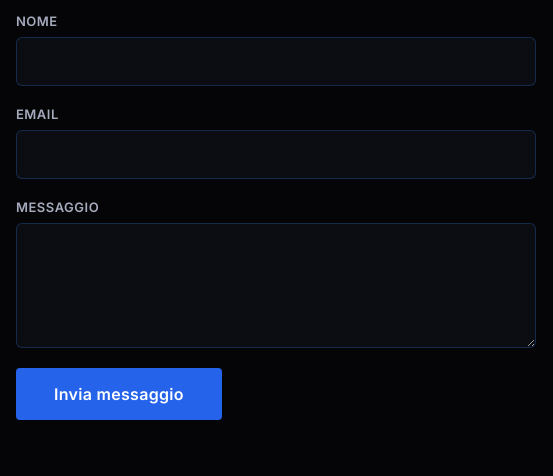
ContactForm › mostra il messaggio di errore senza svuotare i campi se l'invio fallisce
Type "Mario" into the field labelled "Nome".
click(276, 62); type("Mario")  # box top-left (16, 37), bottom-right (536, 86)
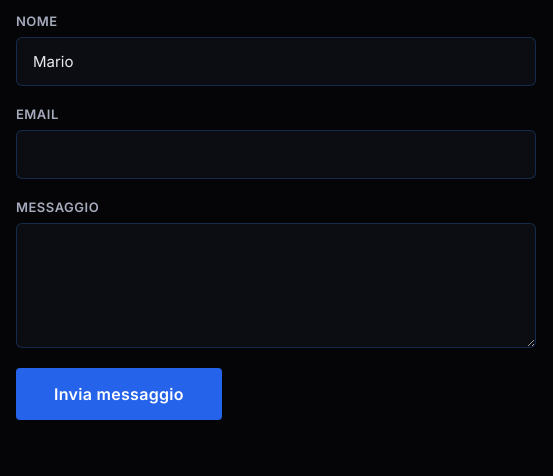
Type "mario@example.com" into the field labelled "Email".
click(276, 154); type("mario@example.com")  # box top-left (16, 130), bottom-right (536, 179)
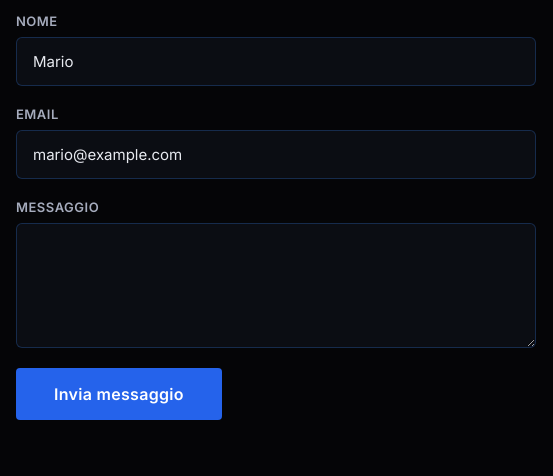
Type "Ciao!" into the text box labelled "Messaggio".
click(276, 286); type("Ciao!")  # box top-left (16, 223), bottom-right (536, 348)
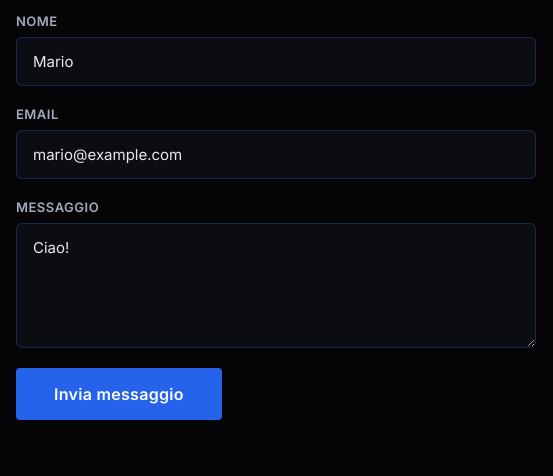
Click the button "Invia messaggio".
click(119, 394)  # box top-left (16, 368), bottom-right (222, 420)
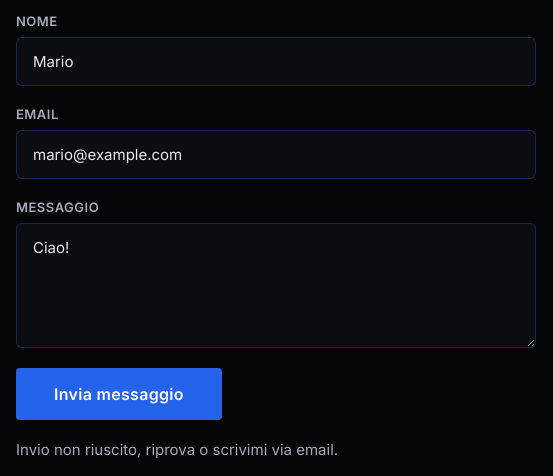
Check: the text "Invio non riuscito, riprova o scrivimi via email." is shown, box top-left (16, 440), bottom-right (338, 459)
